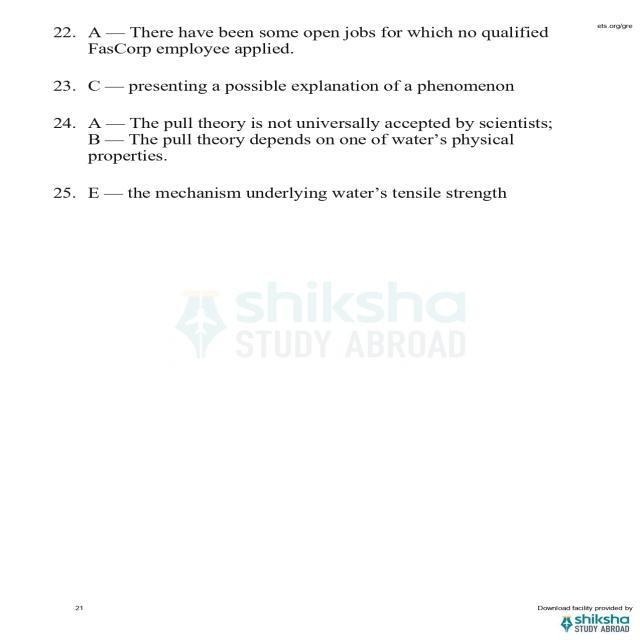Description: (34, 114, 592, 172), (34, 18, 592, 72), (34, 178, 592, 215), (34, 76, 592, 107)
Question_Answer_Block: (34, 113, 592, 173), (34, 18, 592, 72), (34, 178, 592, 215), (34, 74, 592, 110)
Question_Paper_Area: (34, 19, 592, 222)
